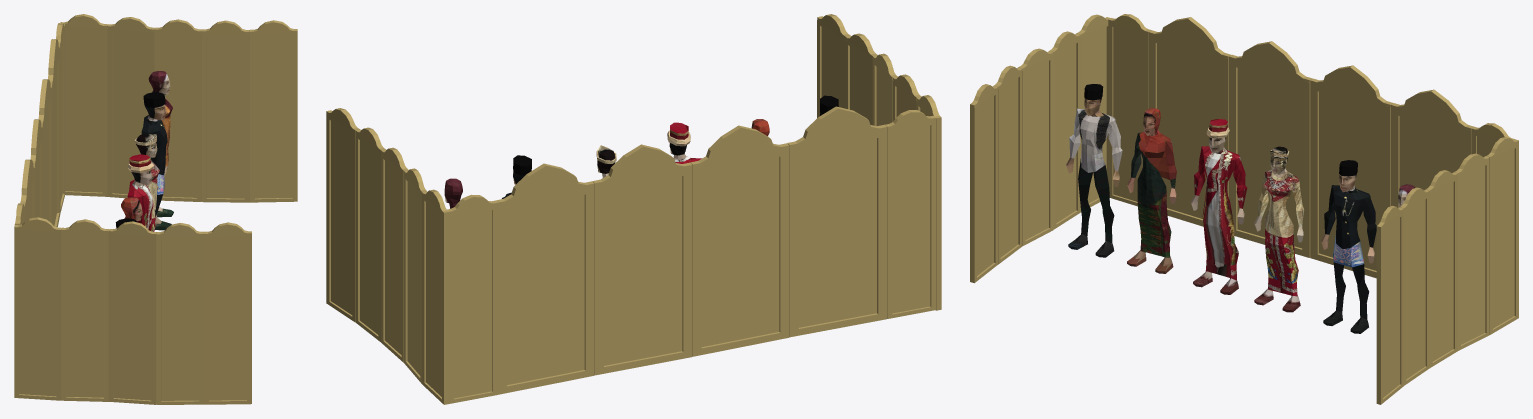
File: bajupengantin.fbx
3 views of the same model, side by side, from view 1: azimuth 30°, elevation 25°; view 2: azimuth 150°, elevation 25°; view 3: azimuth 270°, elevation 25° (orthographic). The views are drawn at different scales.
Visible parts, largest first — view 1: tembok pengentin, jassorong, pengantin, saweradaya; view 2: tembok pengentin, pengantin, jassorong; view 3: tembok pengentin, pengantin, saweradaya, jassorong.
Boxes of the visible parts, left/top/right/bottom form: tembok pengentin: left=14, top=14, right=297, bottom=404; jassorong: left=141, top=71, right=173, bottom=230; pengantin: left=127, top=134, right=159, bottom=231; saweradaya: left=115, top=197, right=142, bottom=228; tembok pengentin: left=326, top=14, right=941, bottom=404; pengantin: left=596, top=122, right=701, bottom=177; jassorong: left=444, top=155, right=531, bottom=208; tembok pengentin: left=970, top=14, right=1518, bottom=404; pengantin: left=1191, top=119, right=1303, bottom=312; saweradaya: left=1066, top=84, right=1176, bottom=273; jassorong: left=1321, top=160, right=1414, bottom=333.
Bounding box in the file's own units: 802 × 361 × 882.
